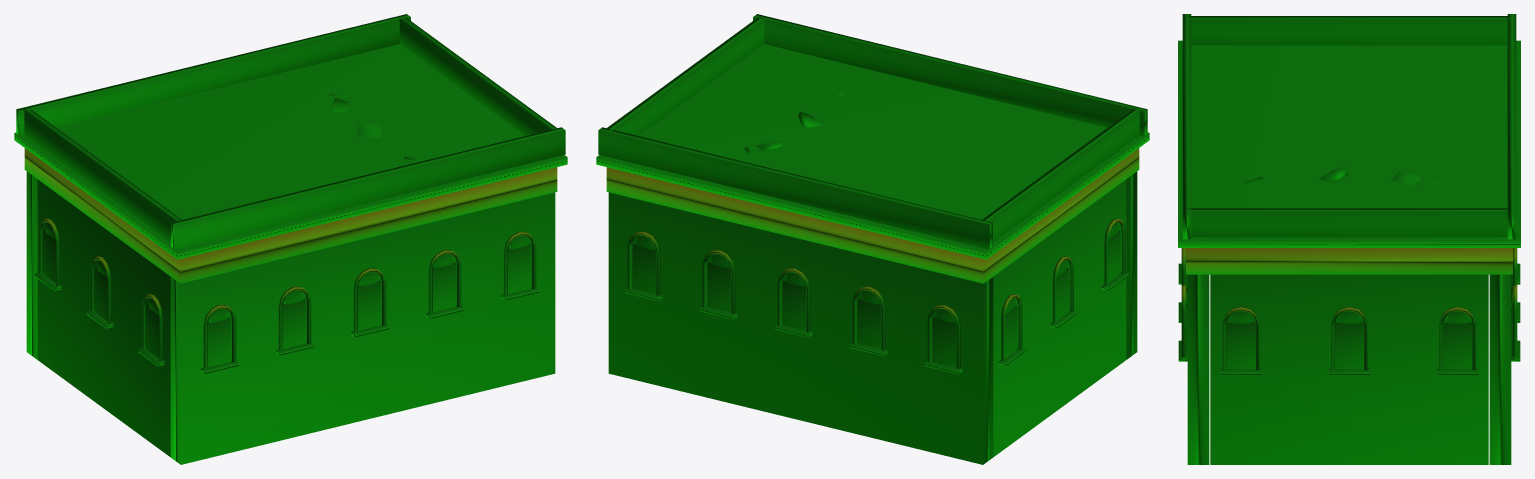
The model's file is iskarra_drowned_block.glb.
The picture shows the model from 3 angles, left to right: view 1: azimuth 30°, elevation 25°; view 2: azimuth 150°, elevation 25°; view 3: azimuth 270°, elevation 25°; orthographic projection. The views are drawn at different scales.
Visible parts, largest first — view 1: iskarra_drowned_block; view 2: iskarra_drowned_block; view 3: iskarra_drowned_block.
Part boxes in pixels (box(x1,y1,x2,y2)): iskarra_drowned_block: box(14, 14, 567, 464); iskarra_drowned_block: box(596, 14, 1149, 464); iskarra_drowned_block: box(1178, 14, 1520, 464).
Size of what is drawn, in the model's own units: 14.57 by 8.67 by 10.56.
